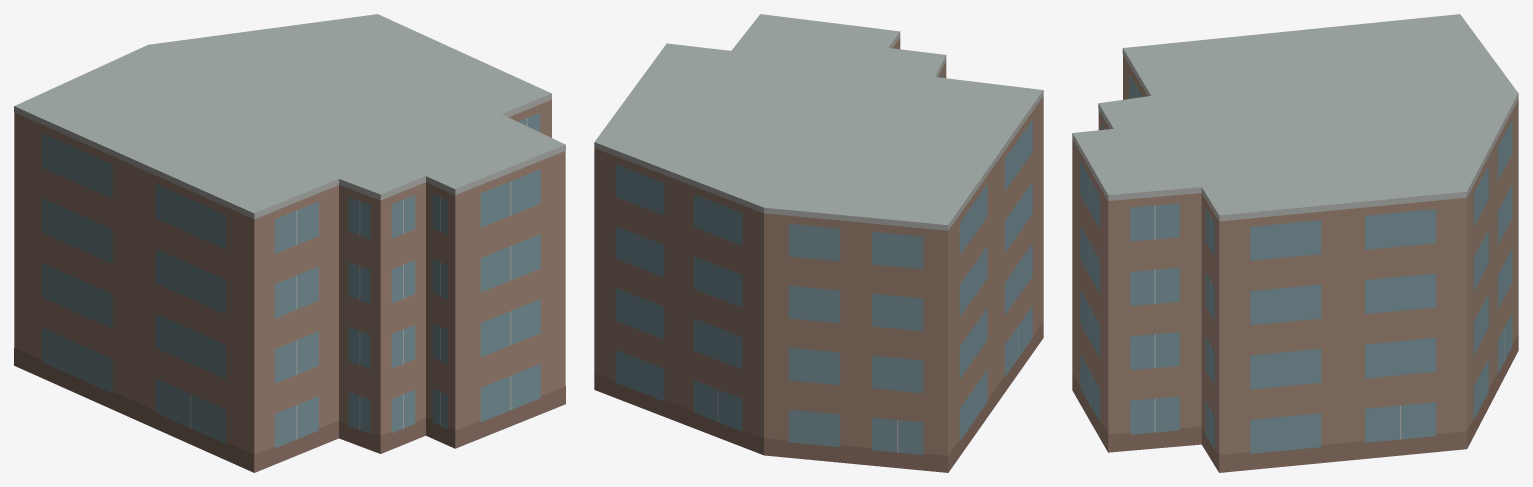
File: survey-upis-32478072.glb
3 views of the same model, side by side, from view 1: azimuth 30°, elevation 25°; view 2: azimuth 150°, elevation 25°; view 3: azimuth 270°, elevation 25° (orthographic). The views are drawn at different scales.
Parts seen in each view (by area): view 1: survey-upis-32478072.tmp; view 2: survey-upis-32478072.tmp; view 3: survey-upis-32478072.tmp.
Part boxes in pixels (<box>): survey-upis-32478072.tmp: <box>14,14,565,472</box>; survey-upis-32478072.tmp: <box>594,14,1043,472</box>; survey-upis-32478072.tmp: <box>1072,14,1518,472</box>.
Bounding box in the file's own units: 17.81 × 10.6 × 16.66.
